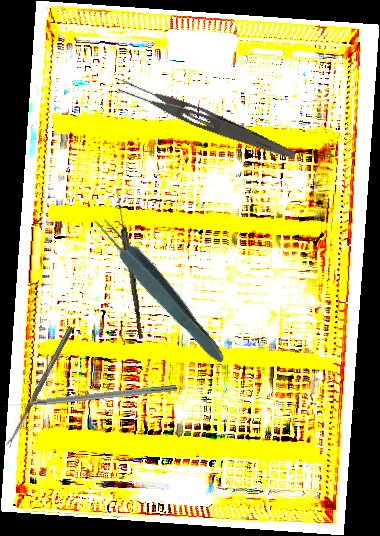Dressing Forceps: (115, 75, 300, 164)
Hook Surgical: (2, 382, 177, 411)
Surgical Spoon: (4, 325, 74, 449), (112, 187, 147, 340)
Tissue Forceps: (87, 207, 233, 370)
